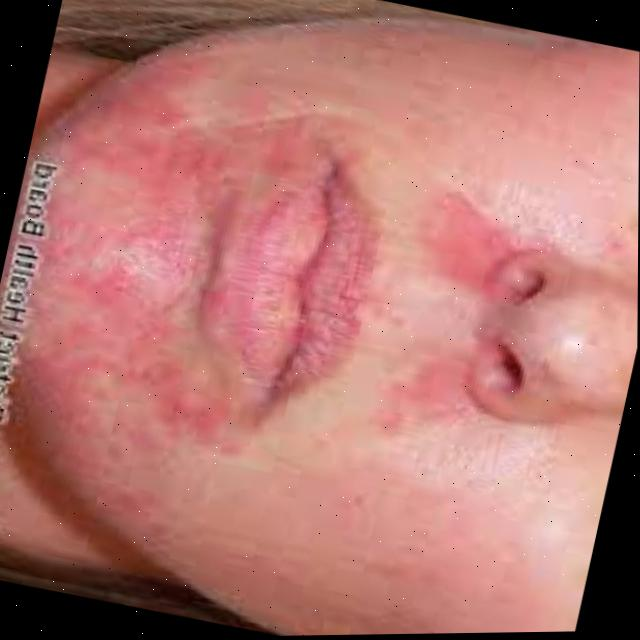Eczema: (6, 50, 277, 495), (381, 198, 520, 443)
